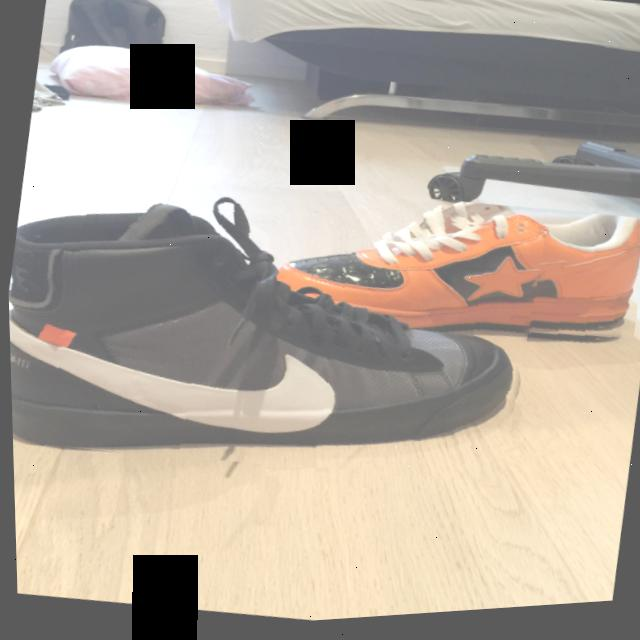shoe: (4, 157, 551, 522), (269, 171, 640, 379)
